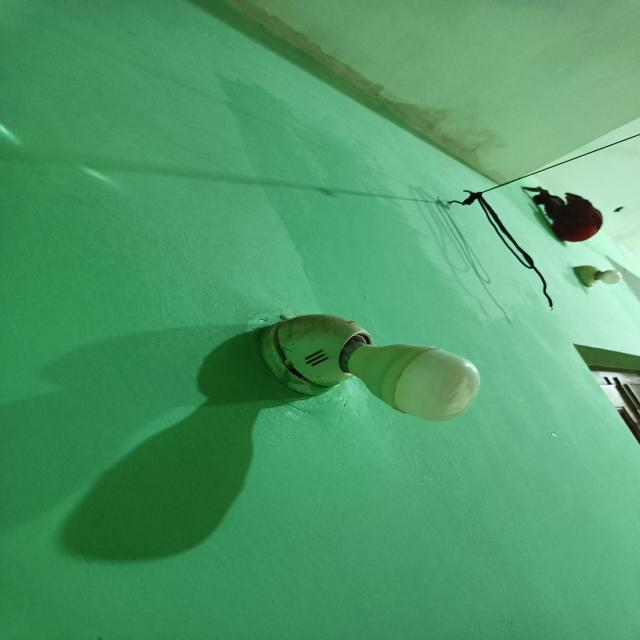bulb_off: (263, 314, 481, 421)
